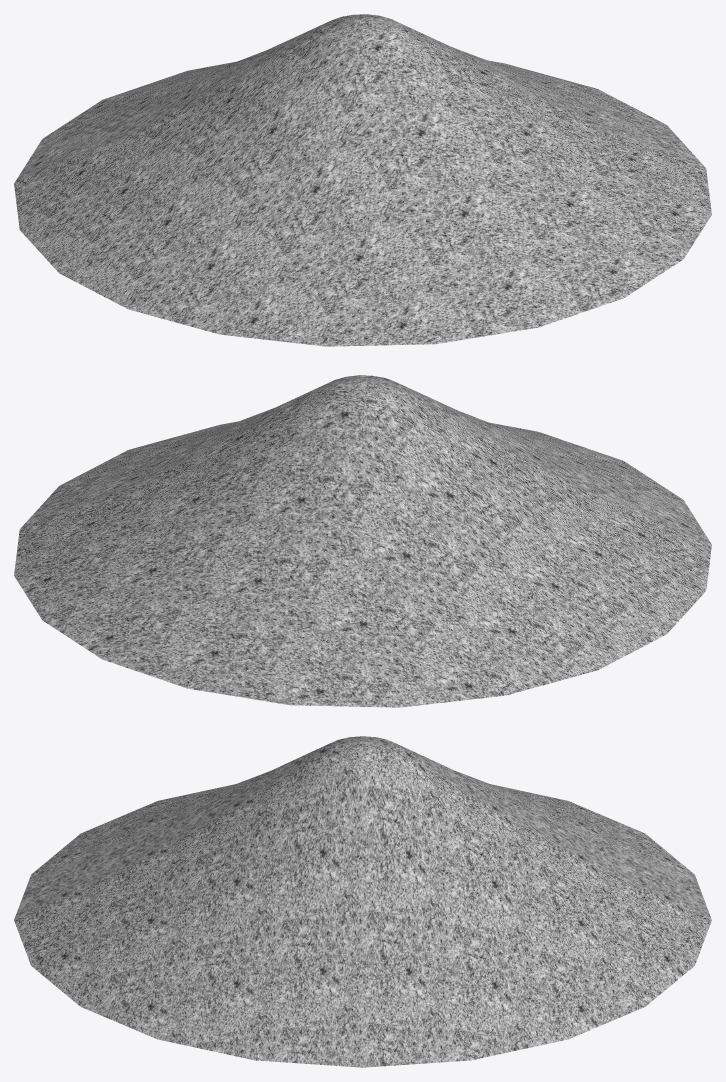
File: Dracula_BurnAsh.fbx
3 views of the same model, one above another, from view 1: azimuth 30°, elevation 25°; view 2: azimuth 150°, elevation 25°; view 3: azimuth 270°, elevation 25° (orthographic).
Visible parts, largest first — view 1: pCone1; view 2: pCone1; view 3: pCone1.
Part boxes in pixels (x1=…): pCone1: x1=14, y1=14, x2=711, y2=346; pCone1: x1=14, y1=375, x2=711, y2=707; pCone1: x1=14, y1=736, x2=711, y2=1067.
Size of the model in its own units: 8.04 by 2.26 by 8.04.
Materials: 1 (1 with a texture image).
